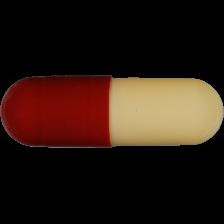68151-3971: (0, 0, 224, 224)
